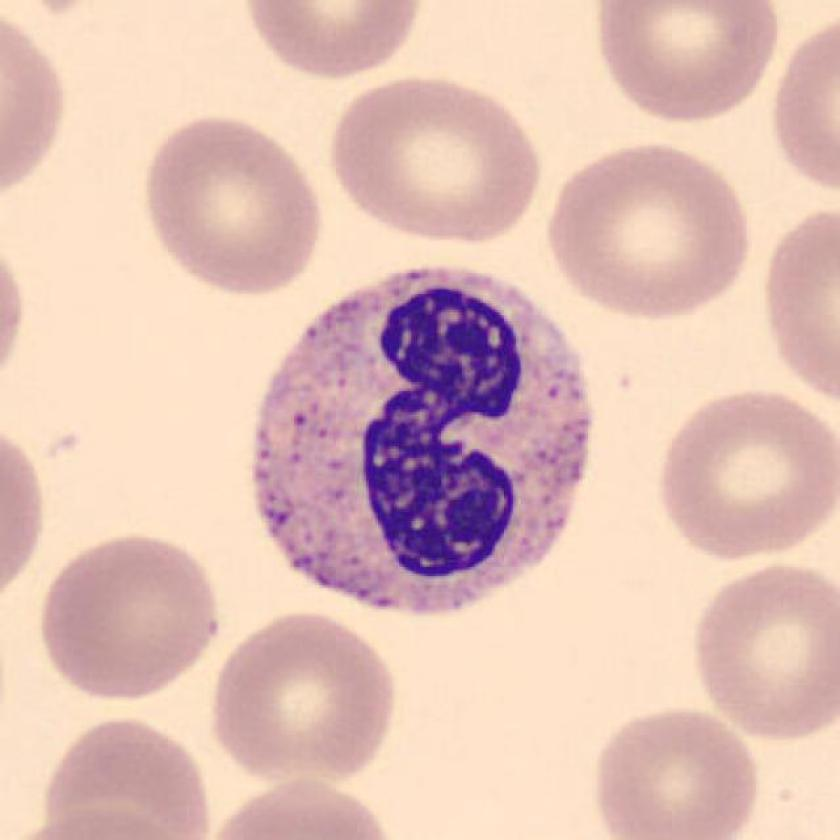neutrophil: (256, 268, 590, 616)
